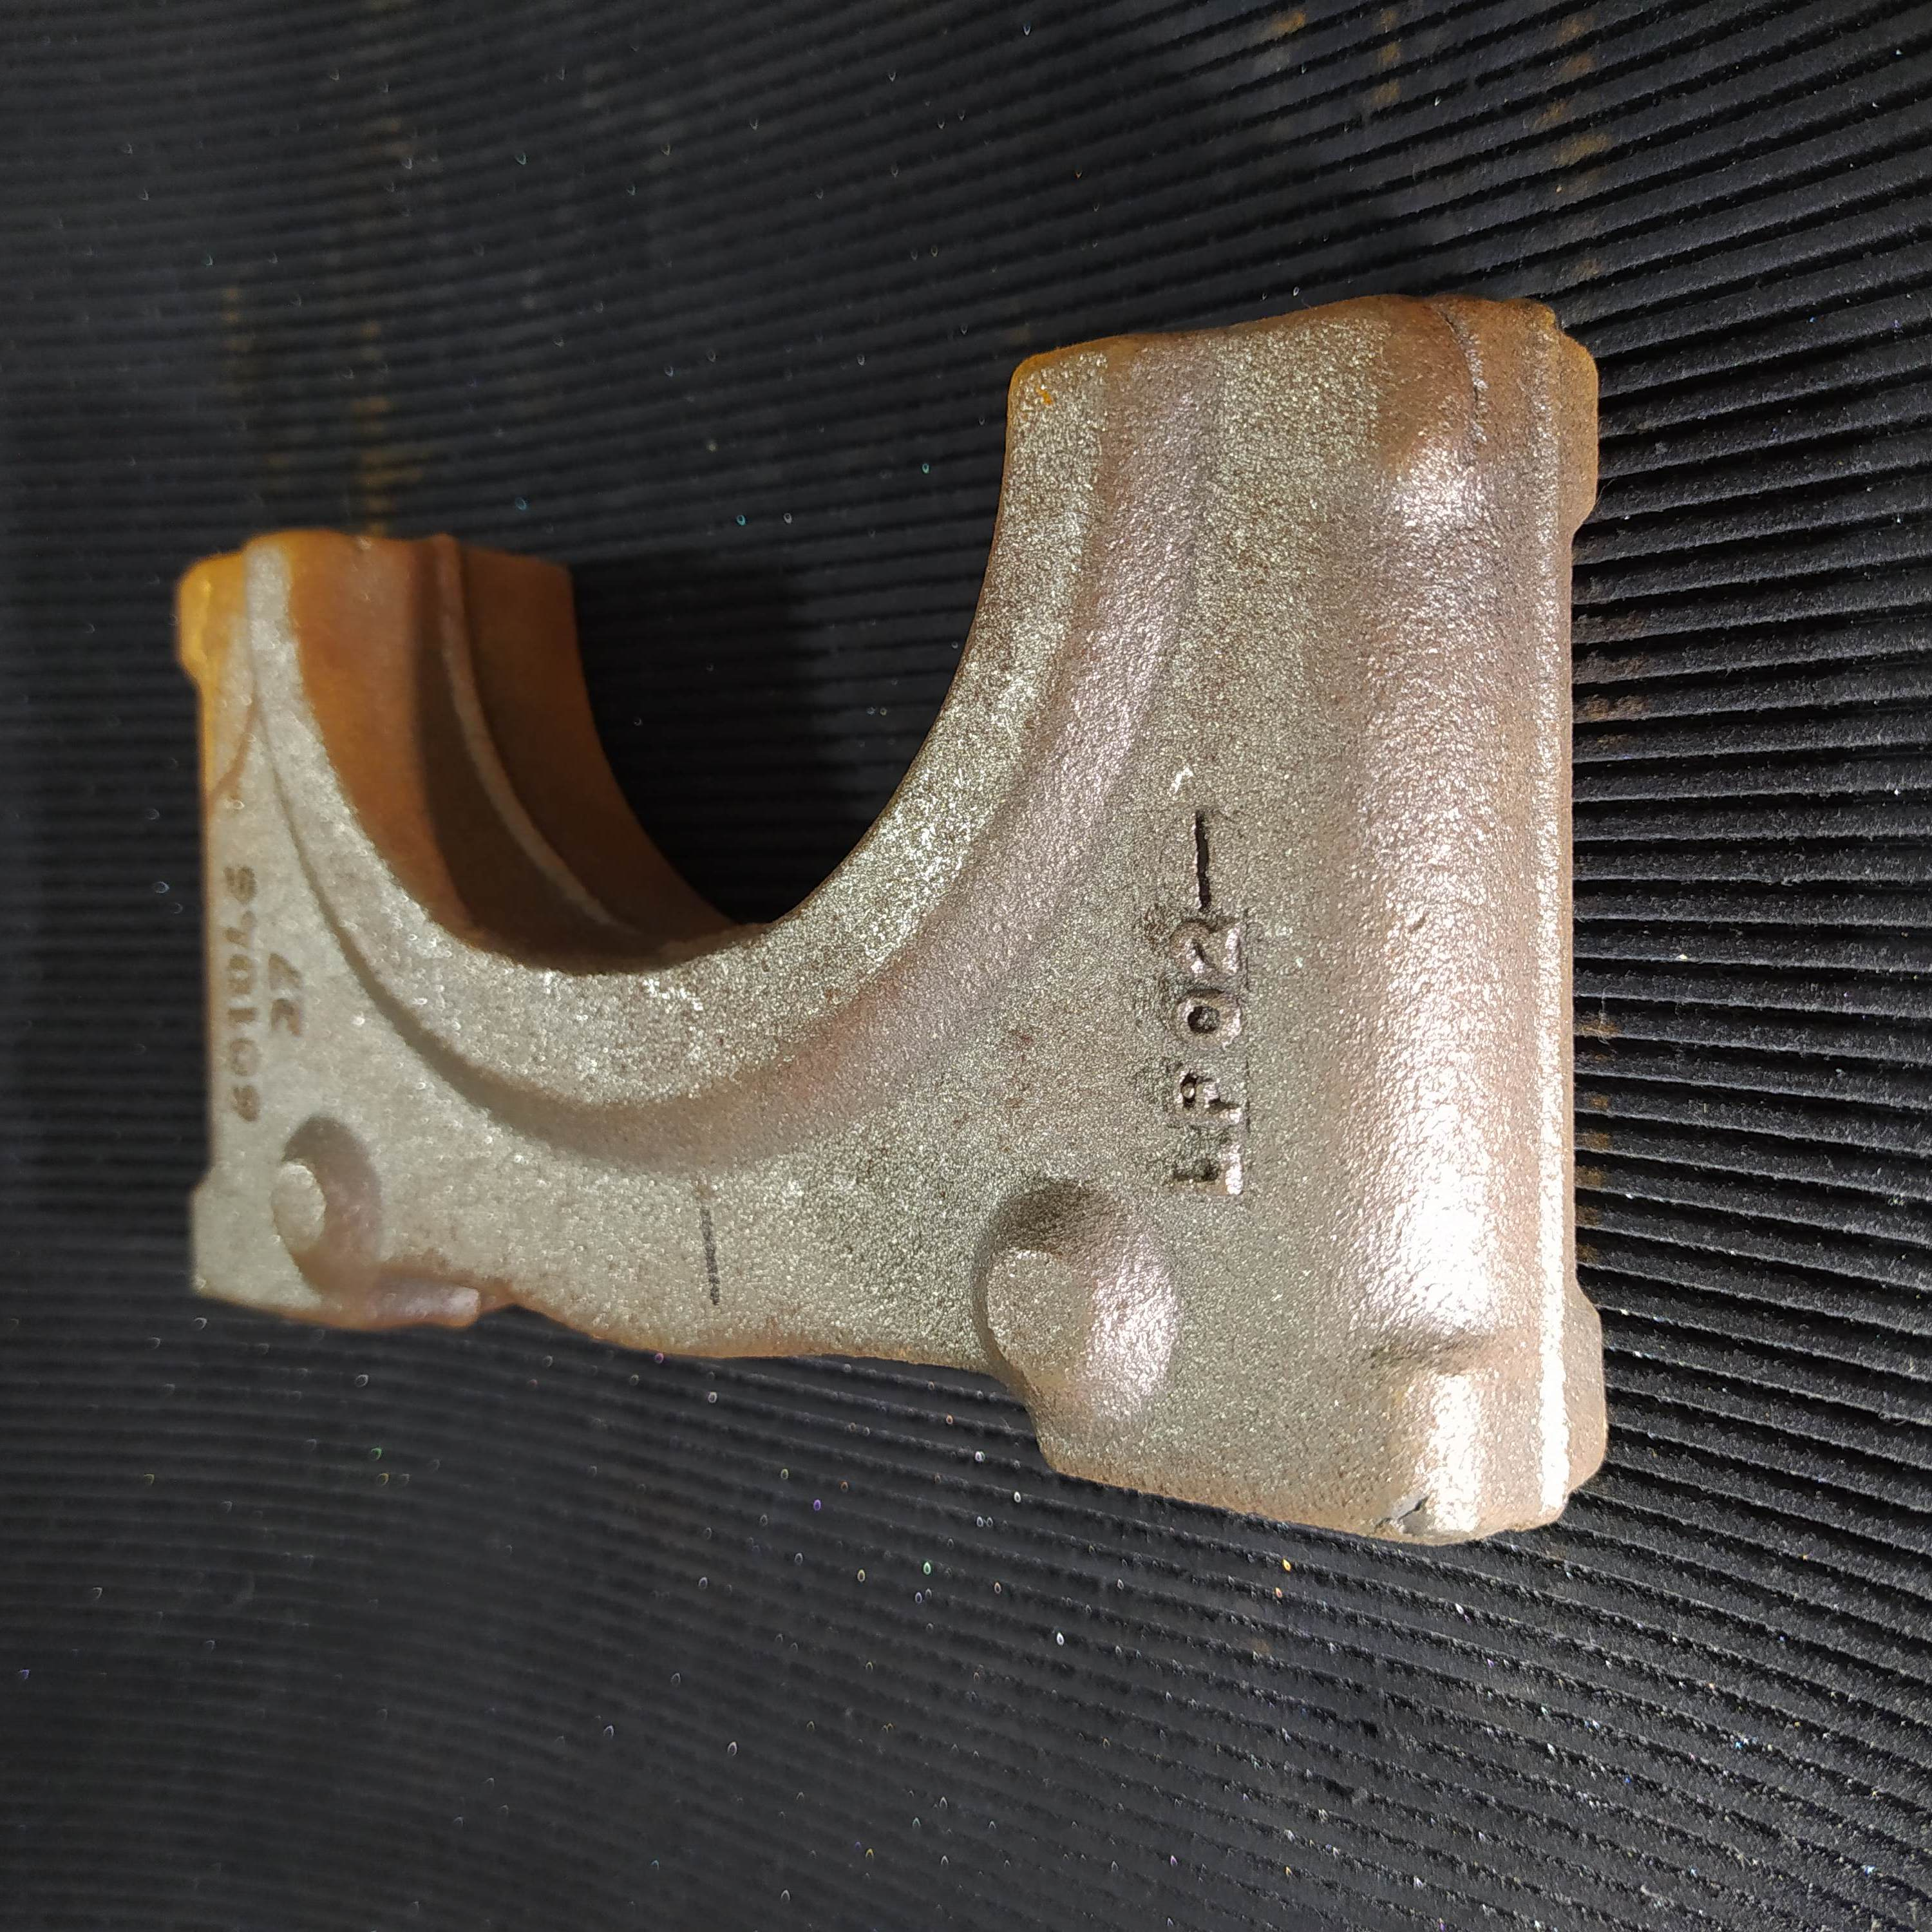rechupe: (1422, 292, 1486, 430), (1384, 1491, 1433, 1541)
